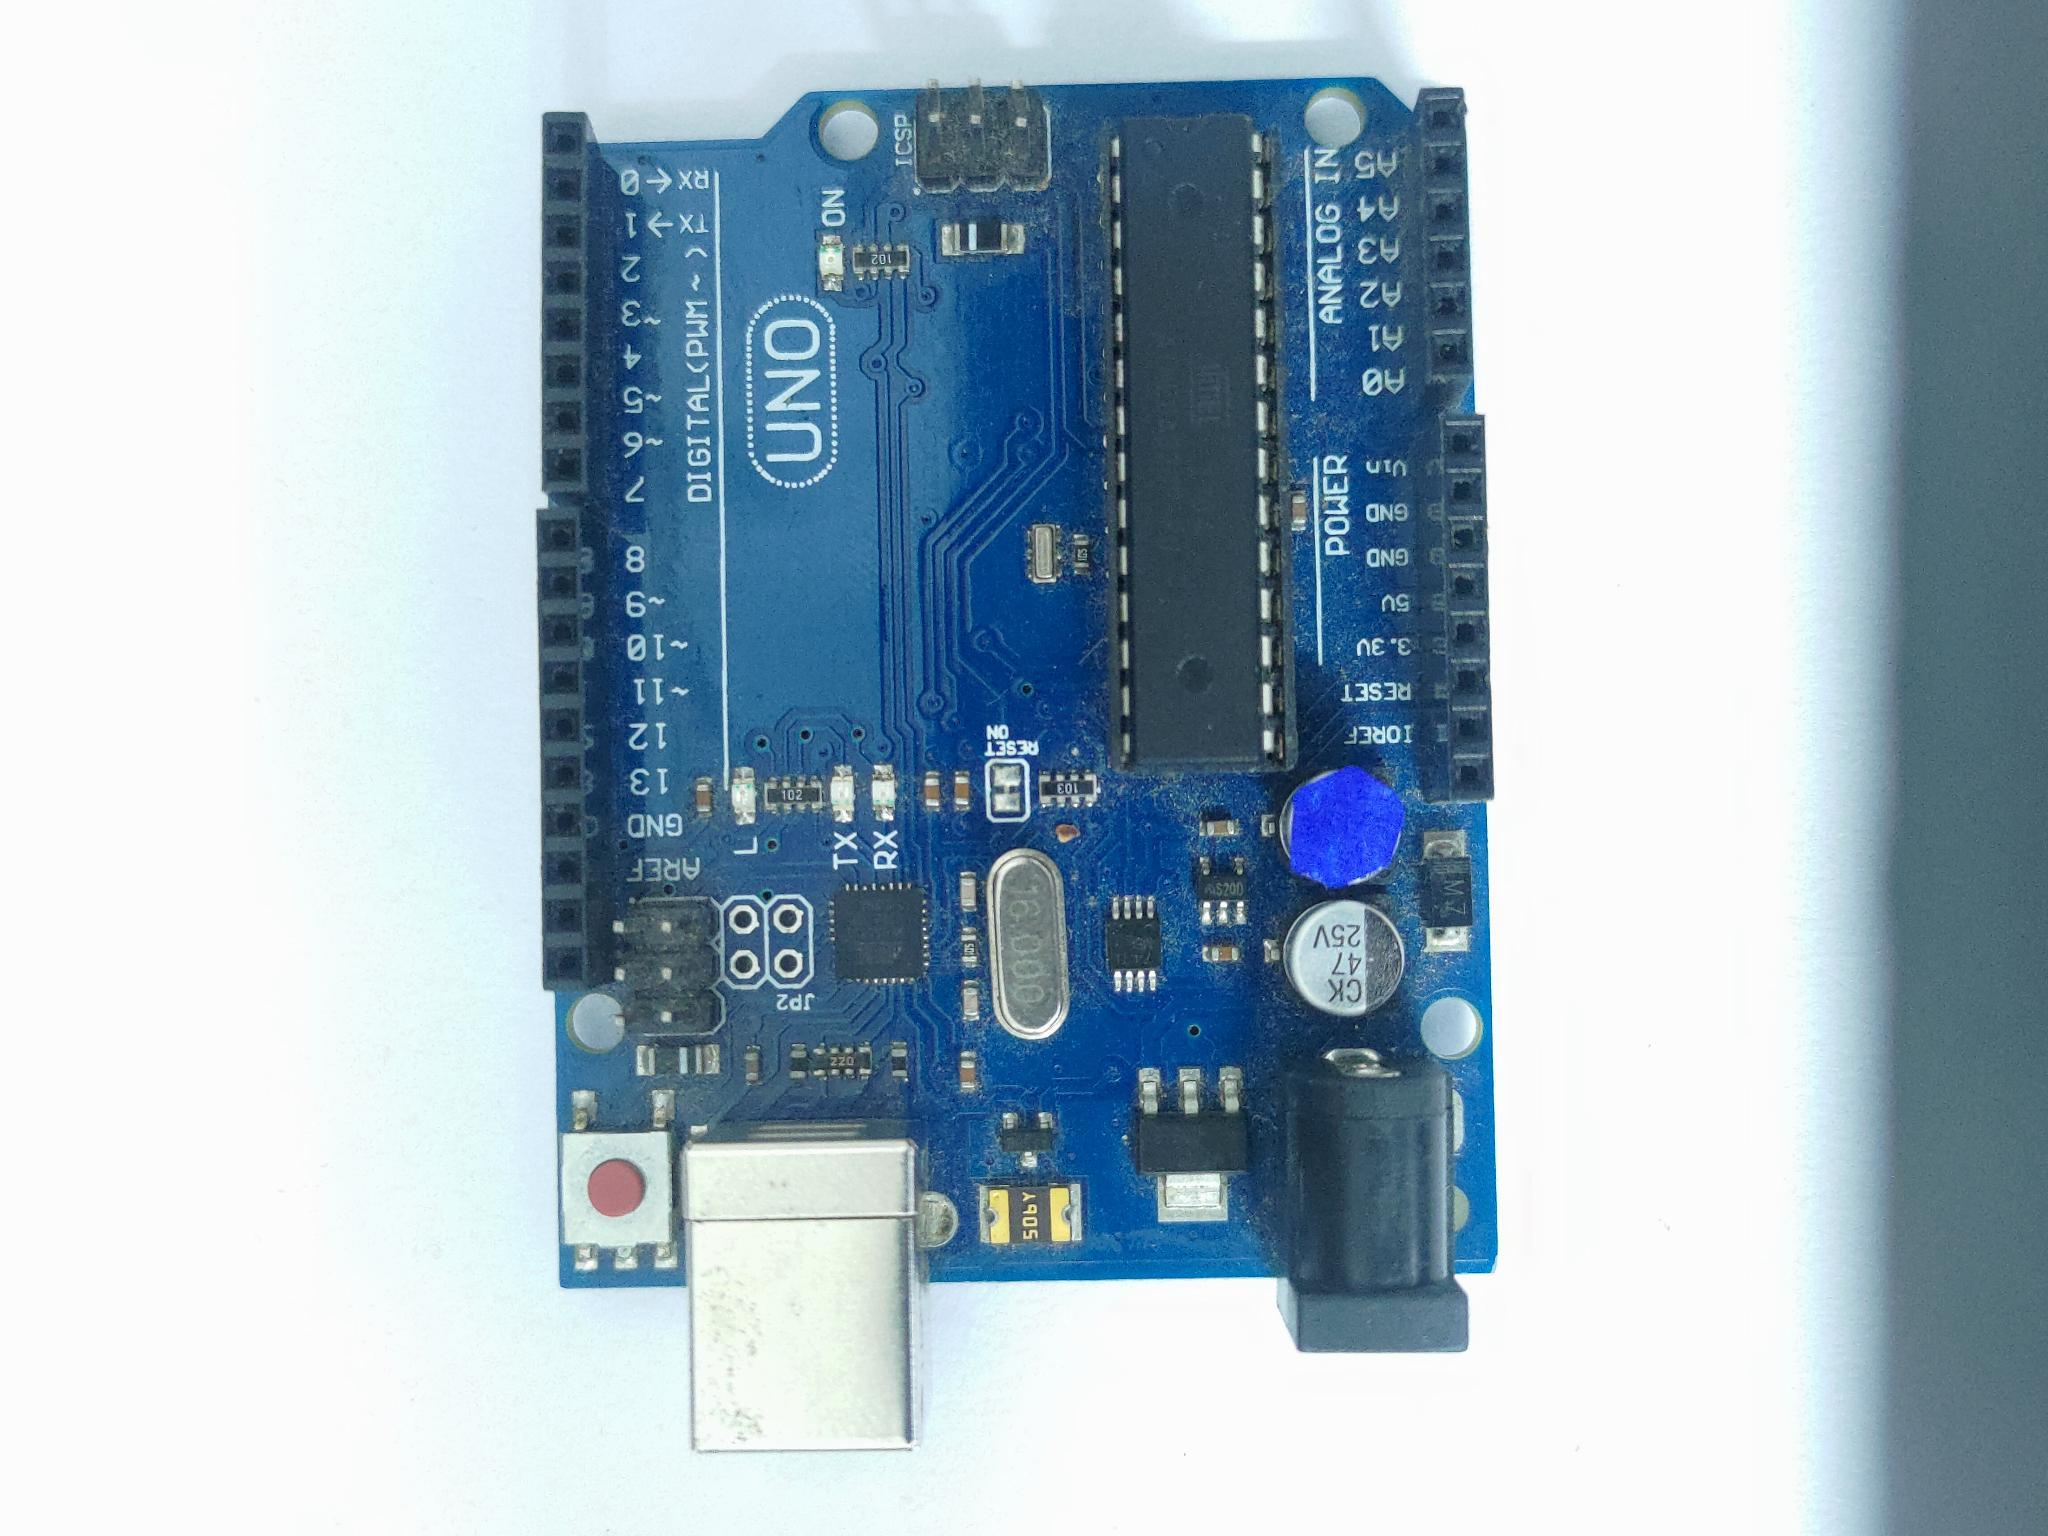16MHz Crystal Oscillator: (989, 849, 1068, 1041)
5V Regulator: (1135, 1112, 1248, 1176)
ATmega328P MC: (1105, 116, 1288, 768)
CK47Capacitor: (1284, 900, 1405, 1016)
CK47Capacitor Missing: (1280, 768, 1405, 887)
Connecting Pins: (535, 111, 616, 992), (1413, 89, 1492, 803)
DC Power Port: (1280, 1049, 1467, 1352)
LED: (827, 765, 856, 824), (816, 232, 843, 292), (732, 765, 756, 824), (872, 765, 897, 820)
LM358: (1105, 916, 1159, 968)
Poly Fuse: (980, 1184, 1080, 1244)
Reset Button: (560, 1133, 672, 1249)
USB Connector: (681, 1120, 924, 1452)
USB-TTL Converter: (832, 884, 927, 979)
